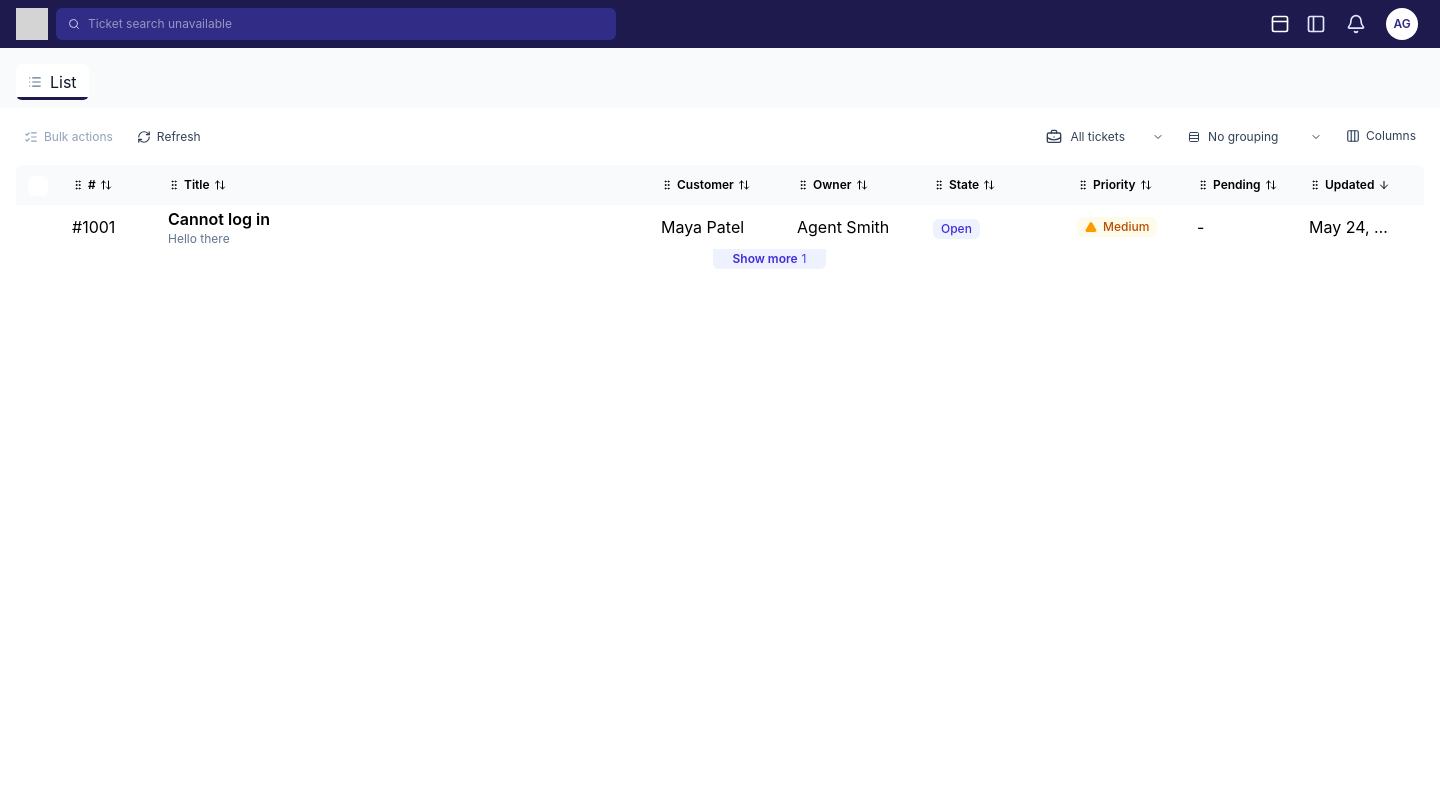
Test: TicketWorkspace refreshed paging rows › keeps the previous effective sort when a provider sort reload fails
This screenshot has width=1440, height=810.
Click the button "Priority": click(1125, 185) [1077, 177, 1173, 193]
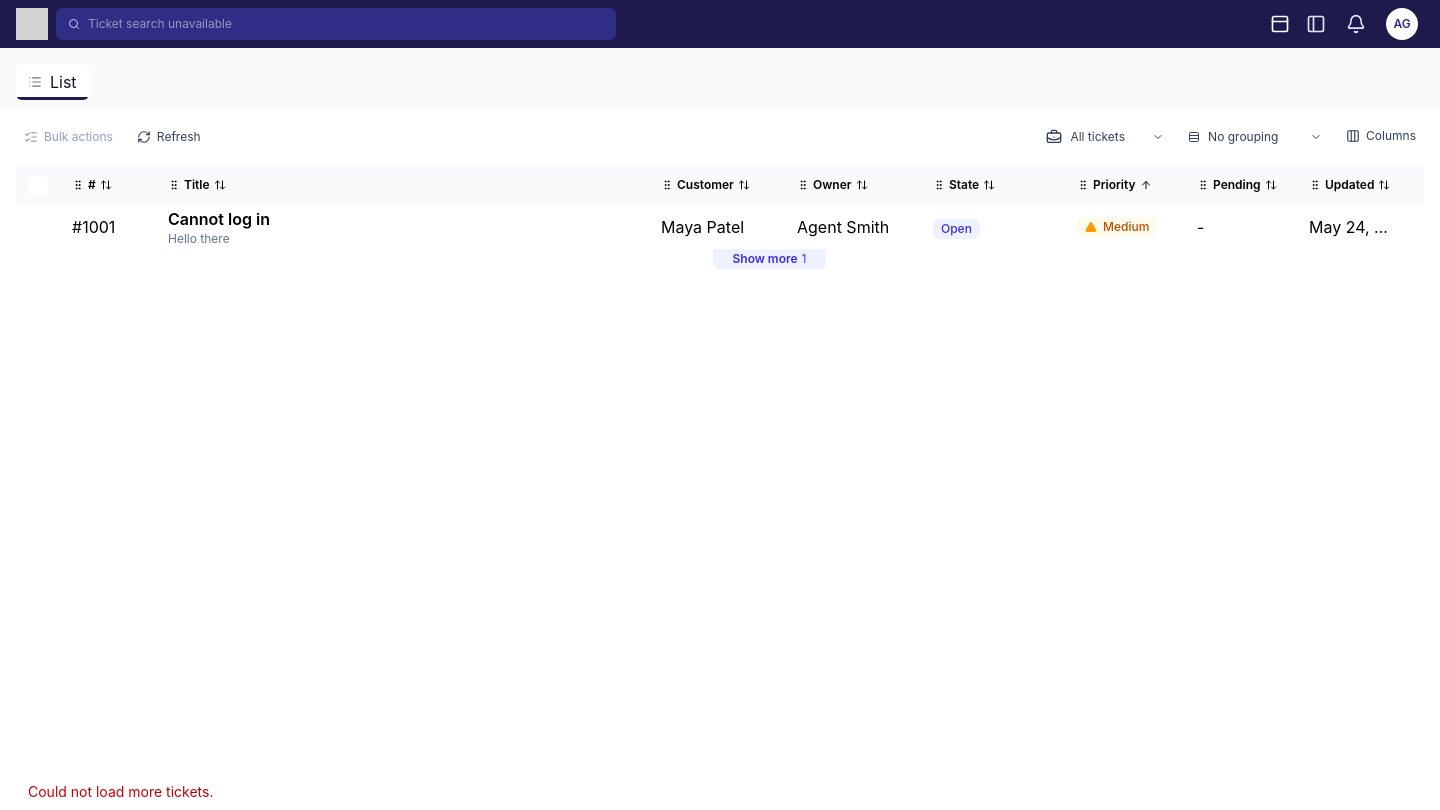
Check: the text "Cannot log in" is shown, box [168, 209, 270, 229]
Check: the message reads "Could not load more tickets.", box [28, 783, 214, 800]
Click the button with aria-label "Show more tickets (1)": click(770, 259) [712, 249, 826, 269]
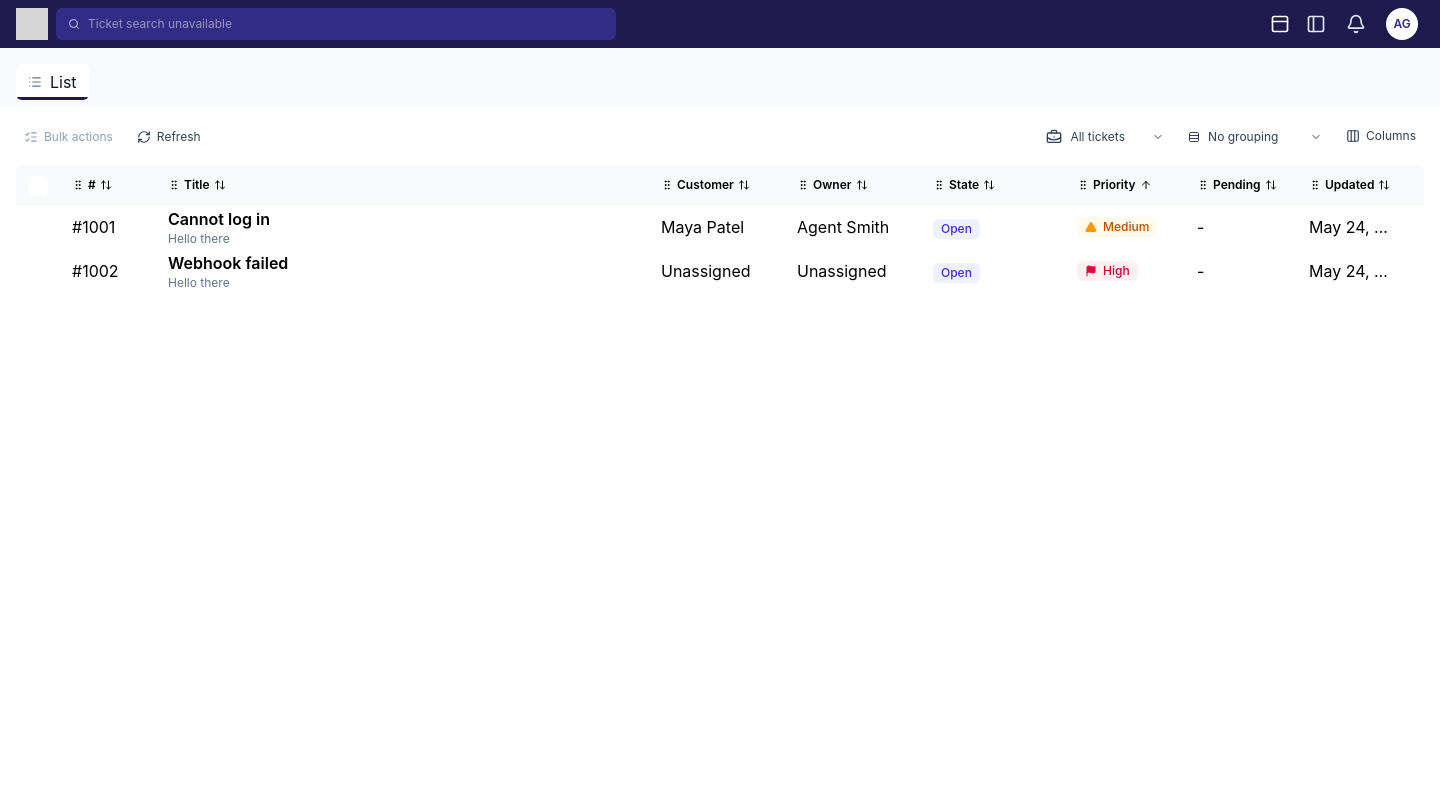
Check: the text "Webhook failed" is shown, box [168, 253, 288, 273]
